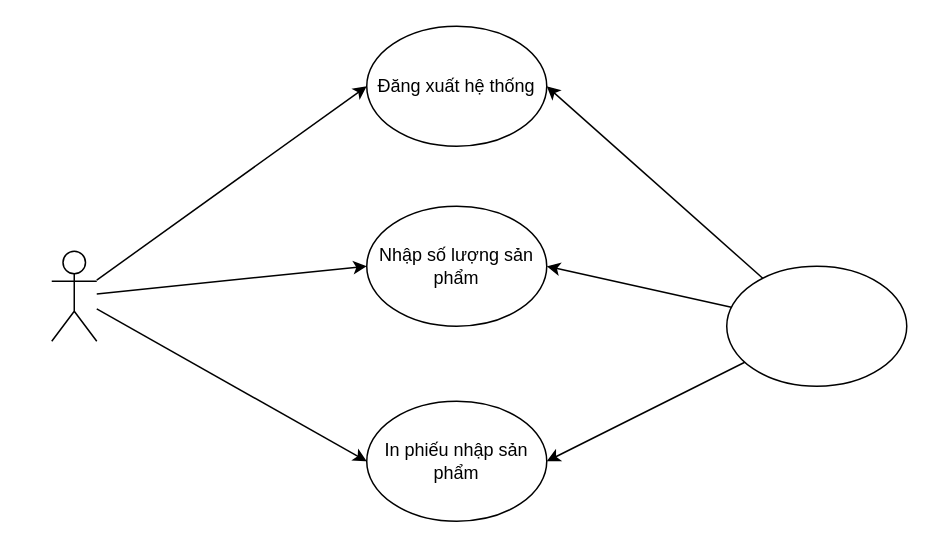
This 933x548 diagram has some shape labels left out. The shapes that lost their labels are listed below. From the top down, each one's centre as x and y in pixels, then its label:
At [73,295]: "Quản lý kho".
At [816,325]: "Đăng nhập hệ thống".
